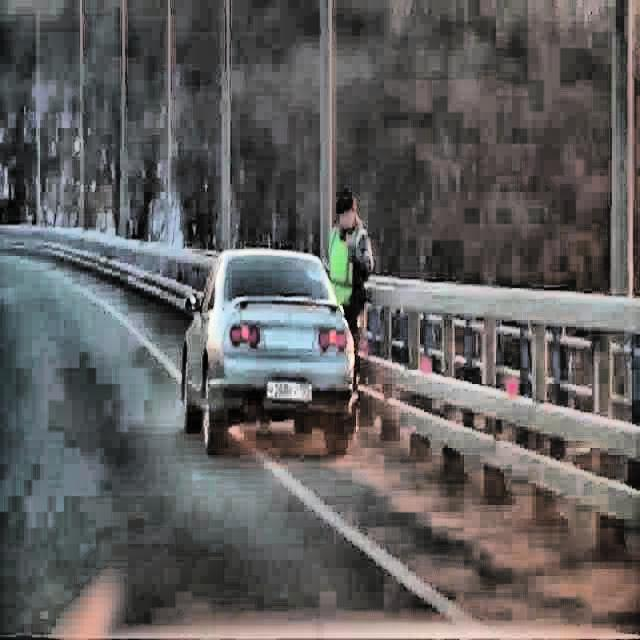safety_jacket: (326, 230, 367, 308)
